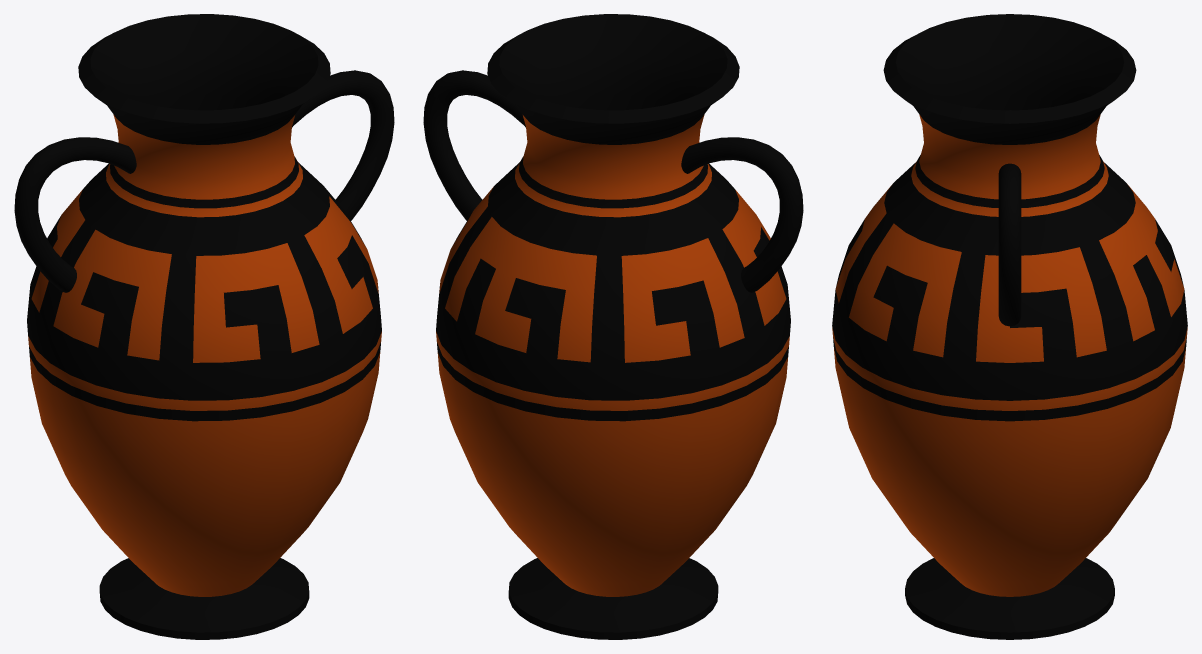
File: amphora.fbx
3 views of the same model, side by side, from view 1: azimuth 30°, elevation 25°; view 2: azimuth 150°, elevation 25°; view 3: azimuth 270°, elevation 25° (orthographic).
Visible parts, largest first — view 1: Sphere.505; view 2: Sphere.505; view 3: Sphere.505.
Boxes of the visible parts, x1,y1,x2,y2 form: Sphere.505: (14, 14, 394, 639); Sphere.505: (423, 14, 803, 639); Sphere.505: (832, 14, 1187, 639).
Size of the model in its own units: 147 by 199 by 120.
1 material, 1 textured.
